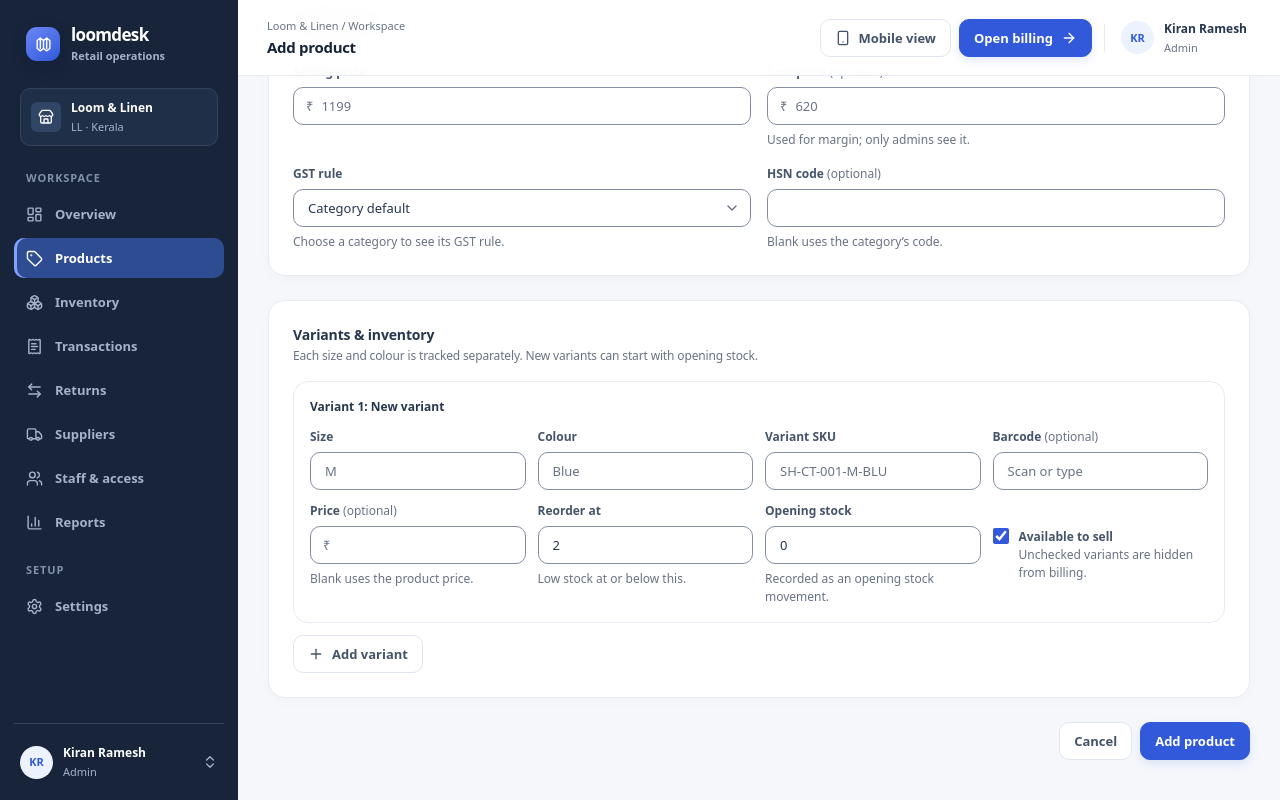
Test: add product › validates before sending anything
(page scrolled)
Click the button "Add product". click: (1195, 741)
box: [1140,722,1250,760]
(page scrolled)
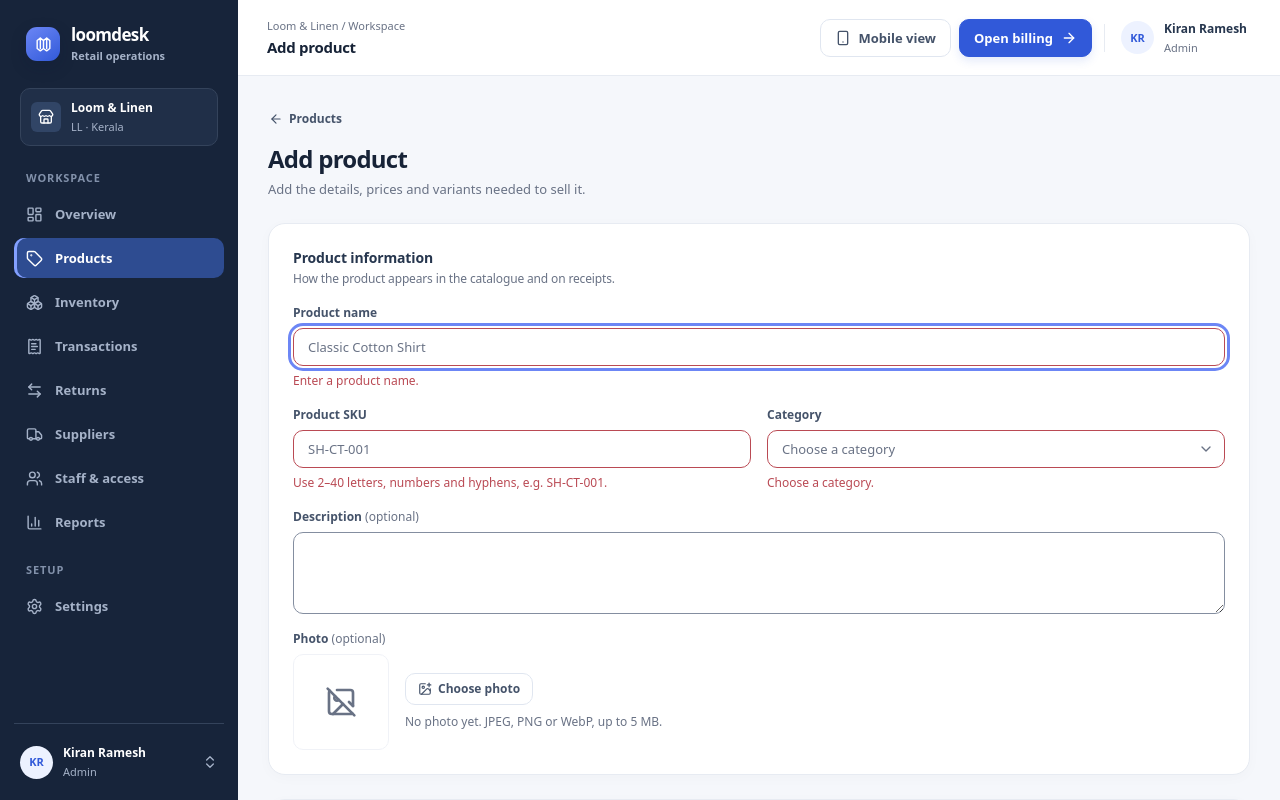
Check: the text "Enter a product name." is shown, box [293,372,419,389]
Check: the text "Choose a category." is shown, box [767,474,874,491]
